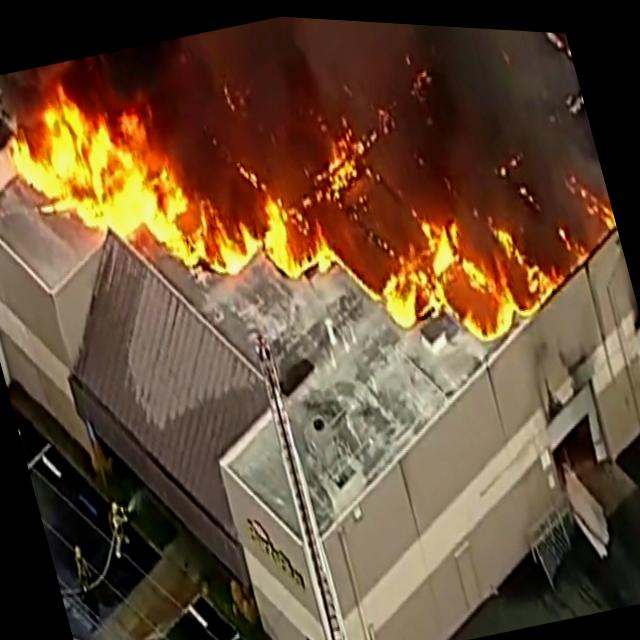fire: (12, 95, 178, 270), (188, 186, 314, 290), (375, 248, 444, 336), (455, 283, 520, 343), (598, 188, 617, 224)
smoke: (0, 0, 614, 364)
